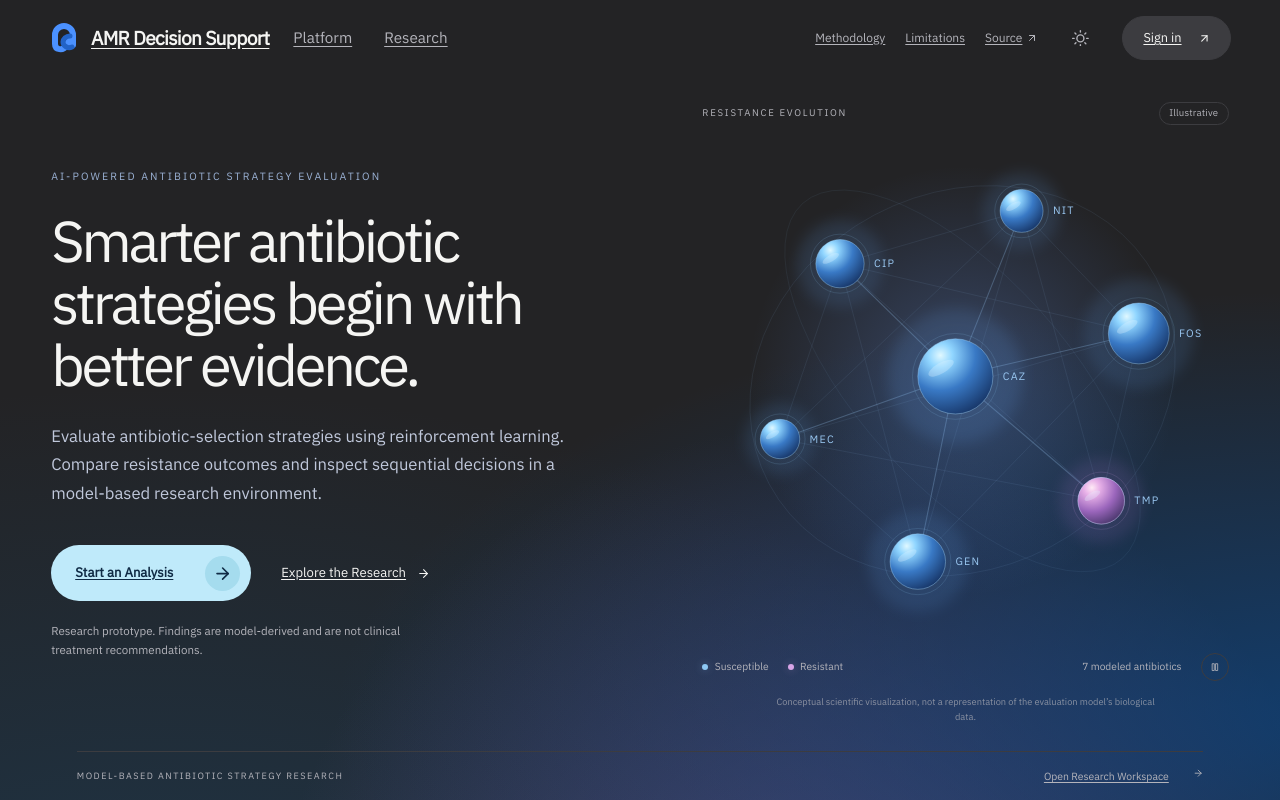
Test case: email and password authentication › opens the home page after signing in from the landing page analysis link
Click the link "Start an Analysis" at (151, 573), box [51,545,251,601]
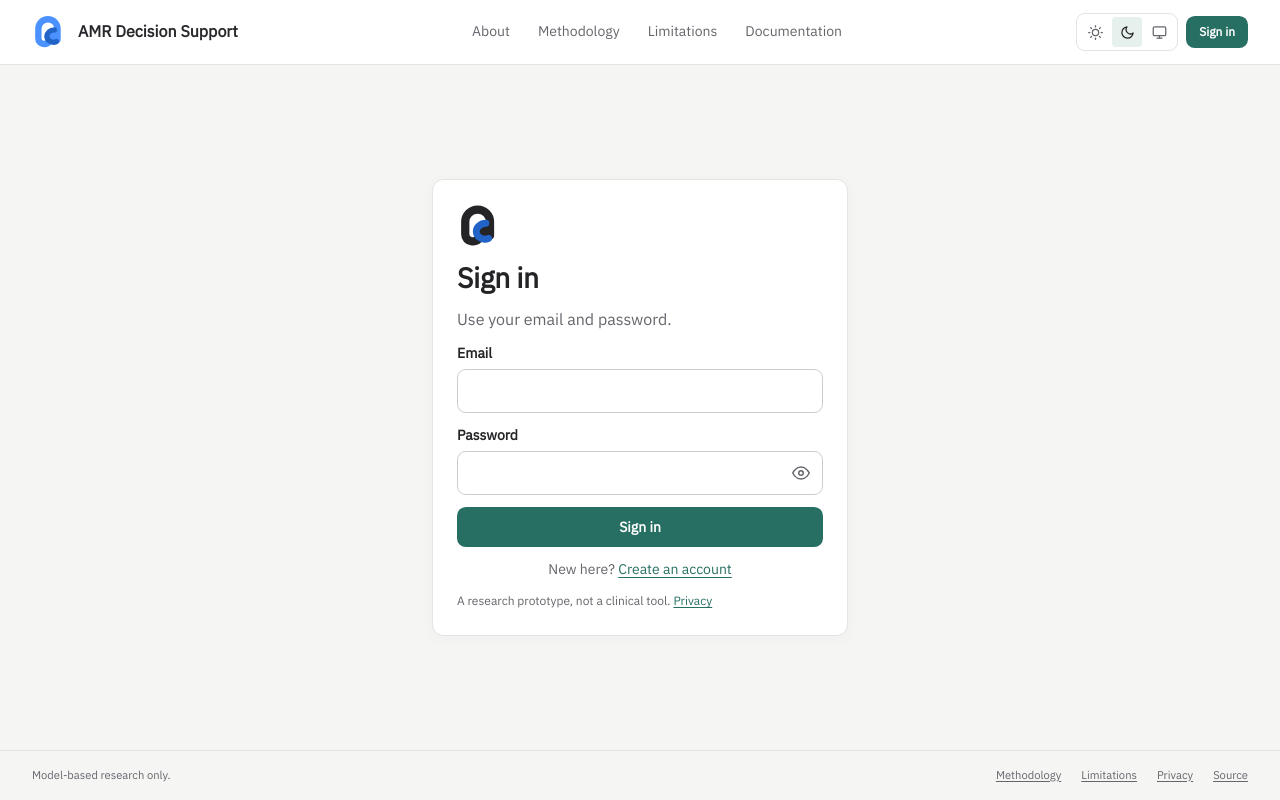
Type "ada@example.org" into the field labelled "Email" at (640, 391), box [457,369,823,413]
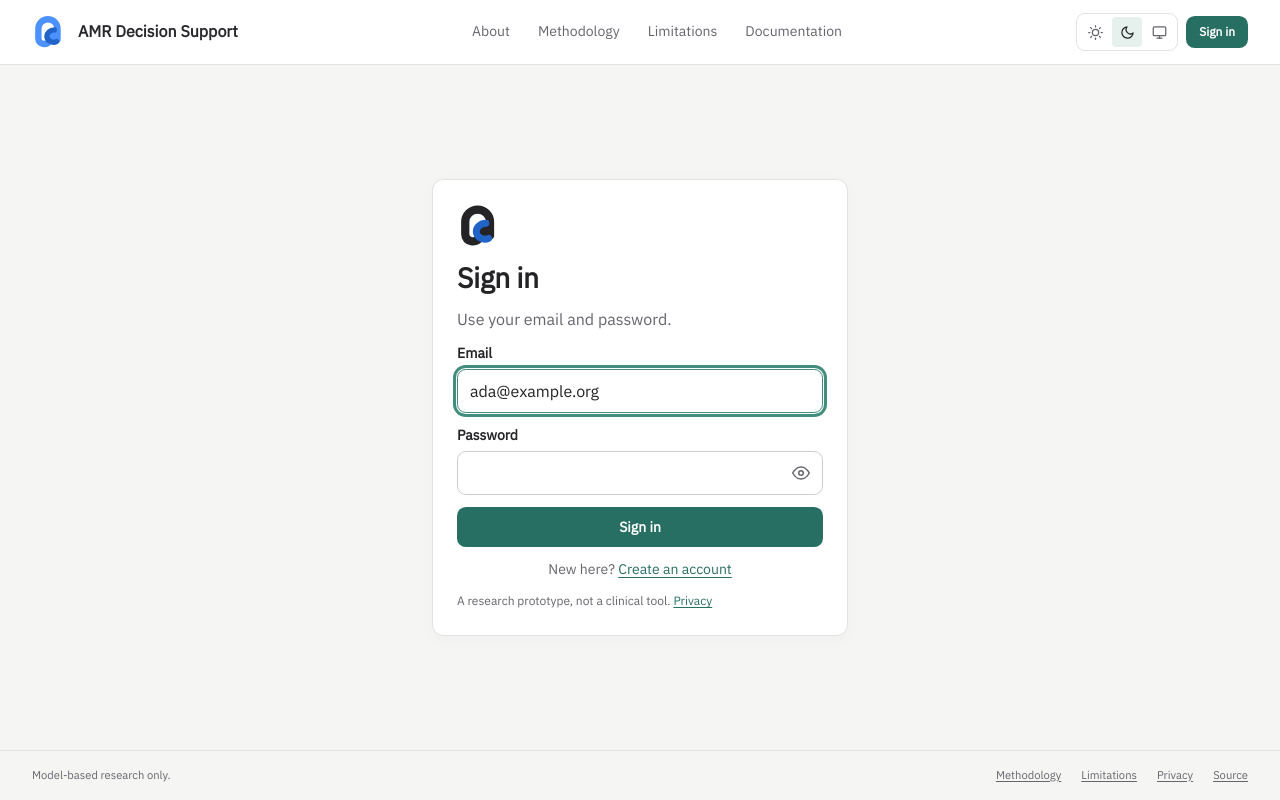
Type "a long enough password" into the password field labelled "Password" at (640, 473), box [457,451,823,495]
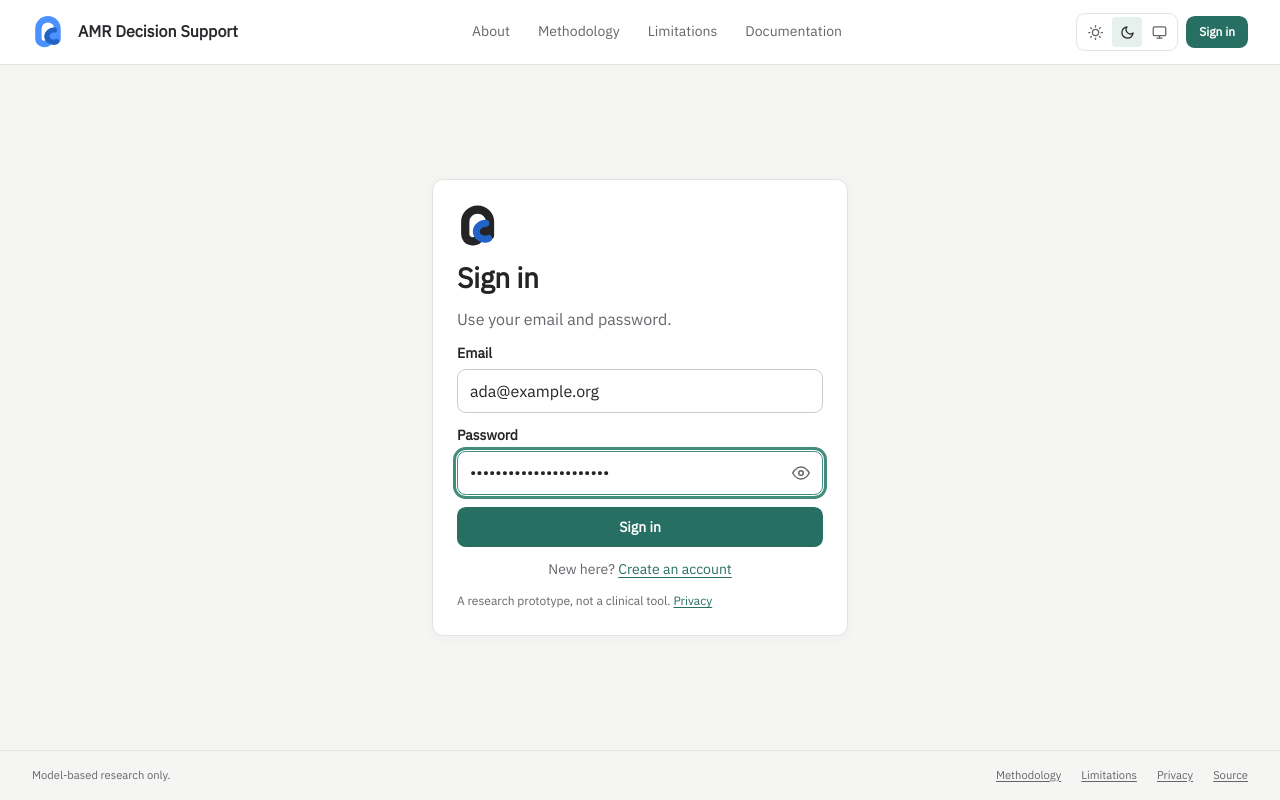
Click the button "Sign in" at (640, 527), box [457,507,823,547]
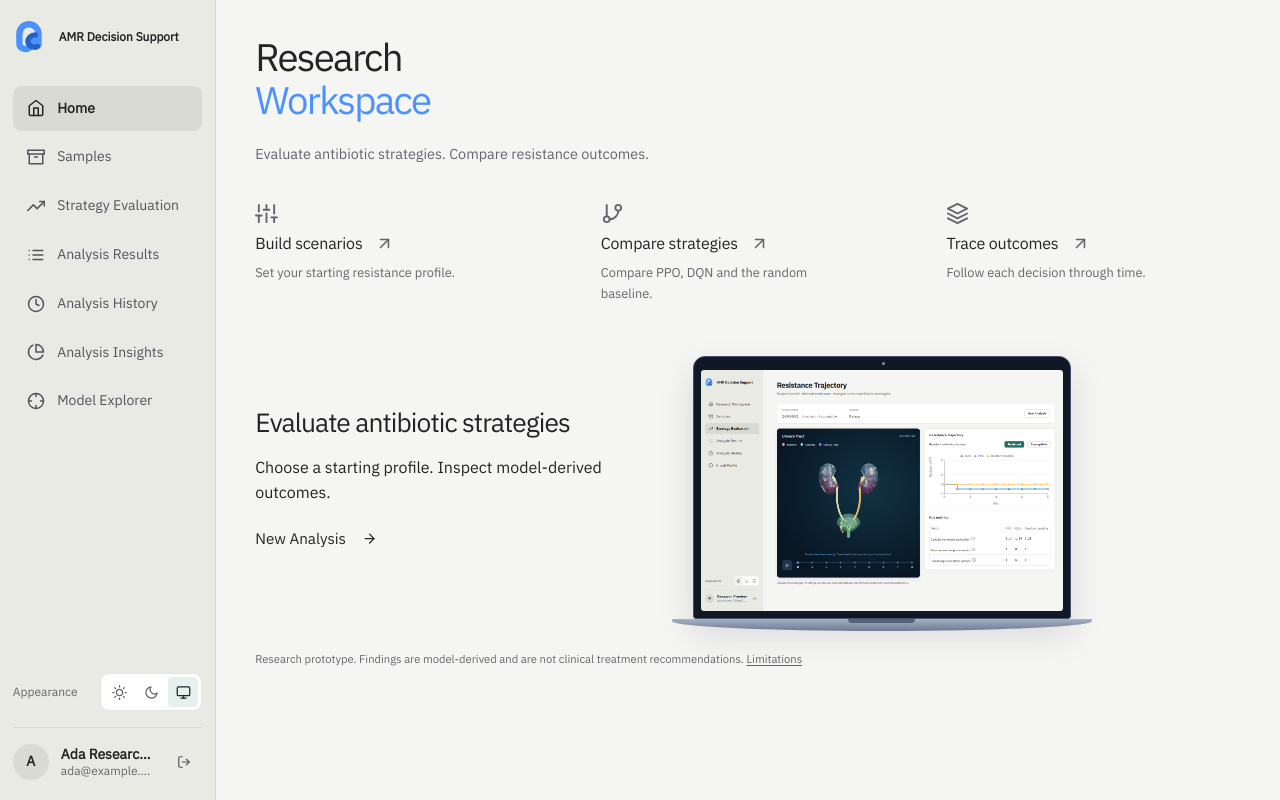
Result: the 1st heading is shown at [255,32,430,125]
